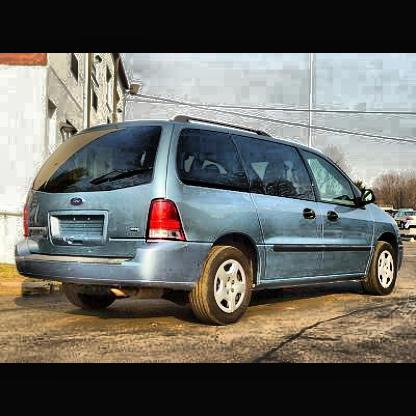Ford Freestar Minivan 2007: (17, 115, 404, 327)
